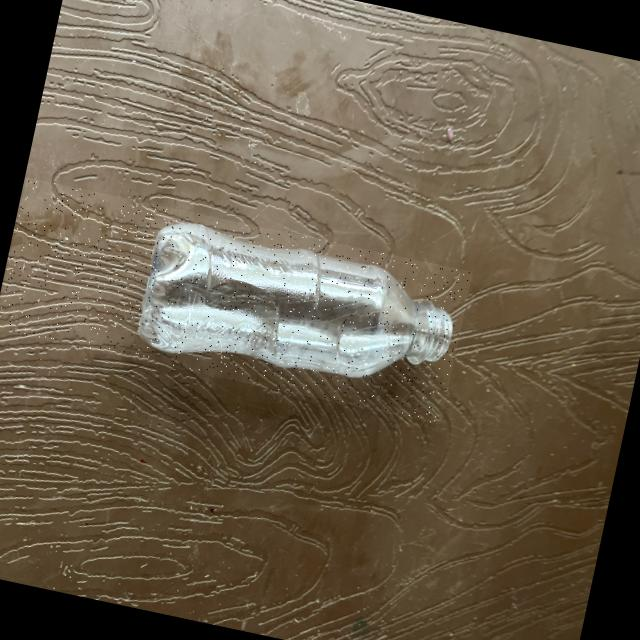PET_ClearBottle: (0, 177, 471, 424)
